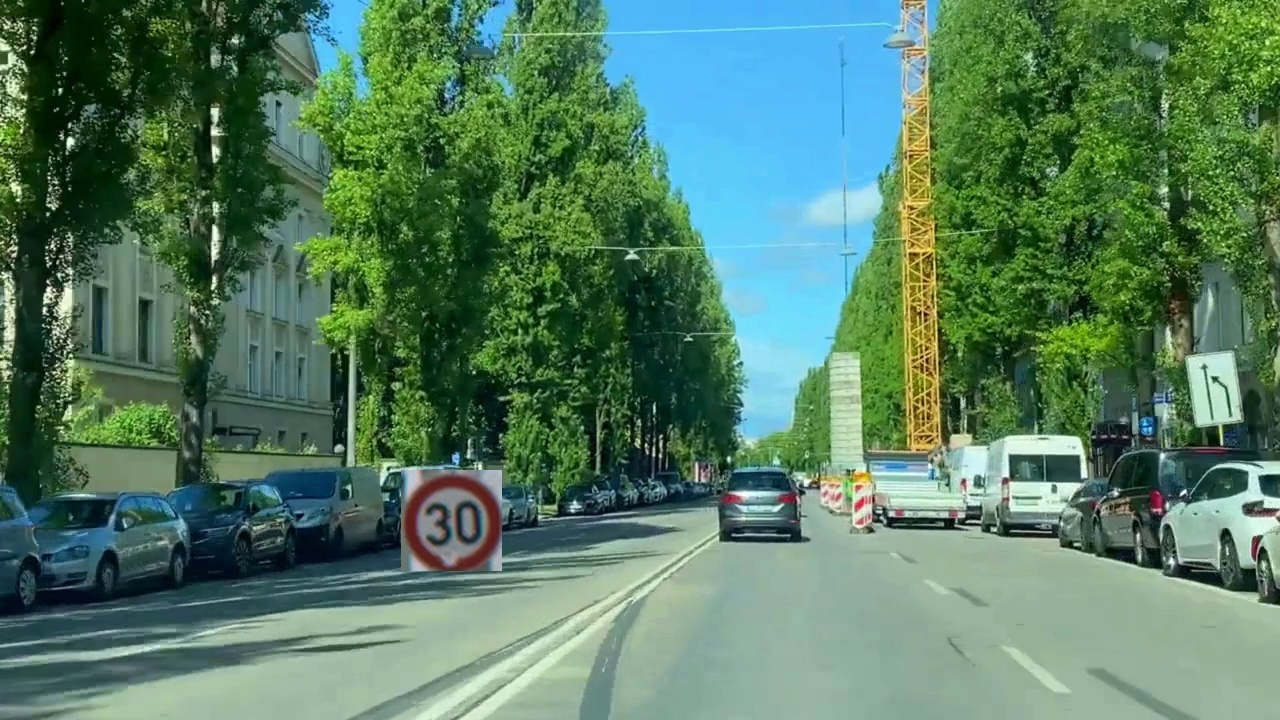Speed 30: (401, 470, 502, 571)
